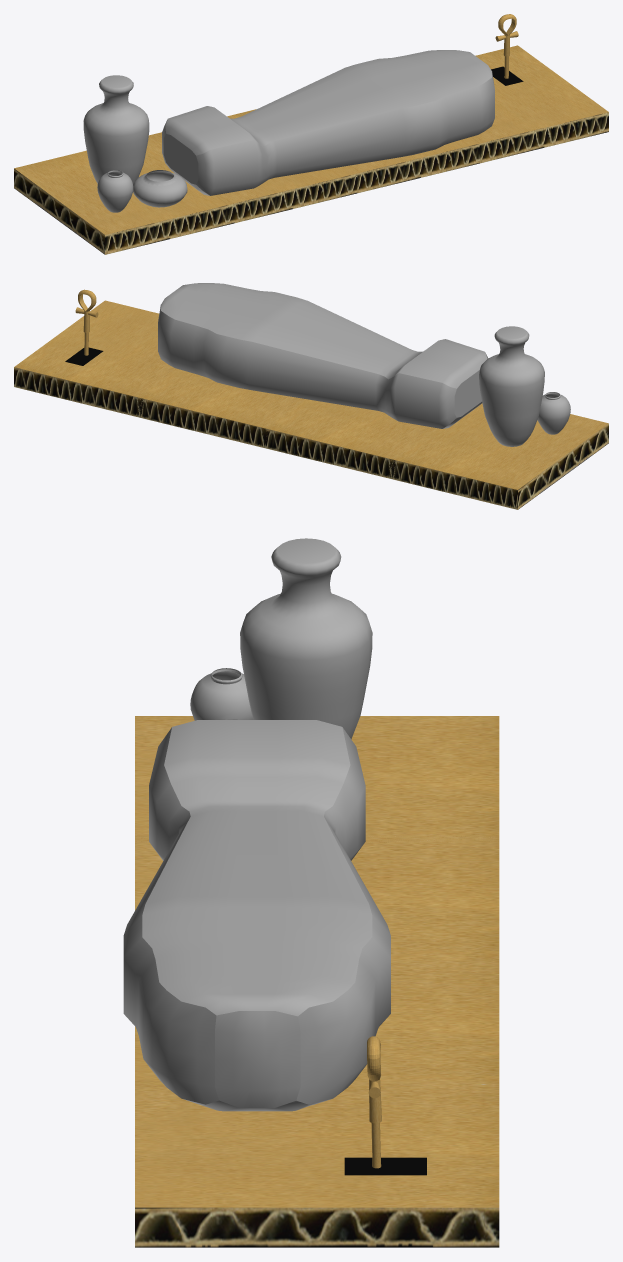
File: Ancient Decorated Platform 1.fbx
3 views of the same model, one above another, from view 1: azimuth 30°, elevation 25°; view 2: azimuth 150°, elevation 25°; view 3: azimuth 270°, elevation 25° (orthographic). The views are drawn at different scales.
Visible parts, largest first — view 1: Ancient_Sarcophagus_2, Platform_6_1, Platform_6_4, Ancient_Storage_Vase_6_02, Platform_6_2, Platform_6_3, Ancient_Storage_Vase_6_03, Ancient_Storage_Vase_6_01, Lever; view 2: Ancient_Sarcophagus_2, Platform_6_1, Platform_6_4, Platform_6_2, Platform_6_3, Ancient_Storage_Vase_6_02, Ancient_Storage_Vase_6_01, Lever, Ancient_Lever; view 3: Ancient_Sarcophagus_2, Platform_6_4, Platform_6_1, Ancient_Storage_Vase_6_02, Platform_6_2, Platform_6_3, Ancient_Storage_Vase_6_01, Lever, Ancient_Lever.
Part boxes in pixels (bbox=[...]): Ancient_Sarcophagus_2: bbox=[162, 50, 494, 195]; Platform_6_1: bbox=[14, 146, 234, 254]; Platform_6_4: bbox=[471, 45, 608, 163]; Ancient_Storage_Vase_6_02: bbox=[83, 75, 149, 184]; Platform_6_2: bbox=[147, 109, 357, 222]; Platform_6_3: bbox=[347, 137, 479, 193]; Ancient_Storage_Vase_6_03: bbox=[133, 170, 187, 207]; Ancient_Storage_Vase_6_01: bbox=[97, 170, 133, 212]; Lever: bbox=[495, 14, 518, 78]; Ancient_Sarcophagus_2: bbox=[158, 283, 488, 428]; Platform_6_1: bbox=[388, 403, 608, 509]; Platform_6_4: bbox=[14, 300, 181, 418]; Platform_6_2: bbox=[265, 399, 437, 479]; Platform_6_3: bbox=[137, 369, 305, 448]; Ancient_Storage_Vase_6_02: bbox=[479, 326, 544, 446]; Ancient_Storage_Vase_6_01: bbox=[537, 392, 570, 434]; Lever: bbox=[75, 289, 98, 355]; Ancient_Lever: bbox=[65, 347, 103, 365]; Ancient_Sarcophagus_2: bbox=[123, 720, 390, 1111]; Platform_6_4: bbox=[135, 1081, 499, 1247]; Platform_6_1: bbox=[135, 716, 499, 842]; Ancient_Storage_Vase_6_02: bbox=[240, 538, 372, 739]; Platform_6_2: bbox=[135, 835, 499, 960]; Platform_6_3: bbox=[135, 960, 499, 1081]; Ancient_Storage_Vase_6_01: bbox=[190, 668, 253, 720]; Lever: bbox=[367, 1036, 381, 1168]; Ancient_Lever: bbox=[344, 1157, 426, 1175].
Bounding box in the file's own units: 42.22 × 10.32 × 13.63.
4 materials, 2 textured.
